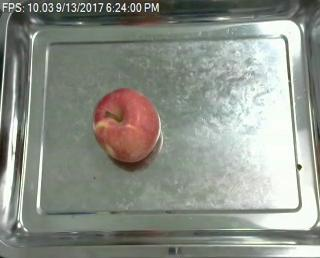apple: (92, 87, 160, 161)
